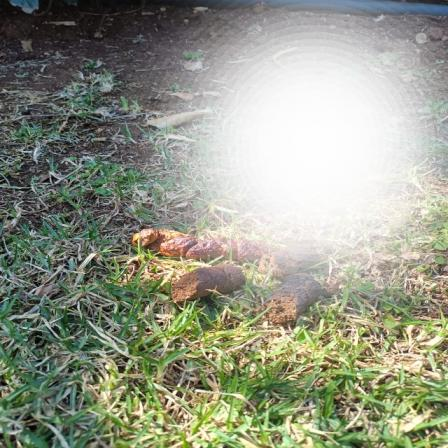dog-poop: (134, 227, 330, 326)
